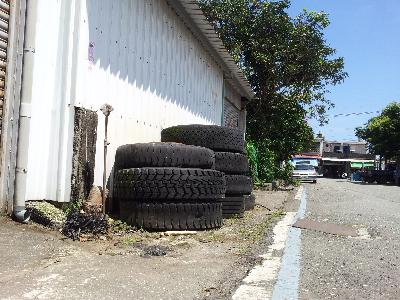tire: (109, 168, 227, 202), (116, 199, 226, 232), (113, 142, 215, 170), (159, 123, 248, 154)
